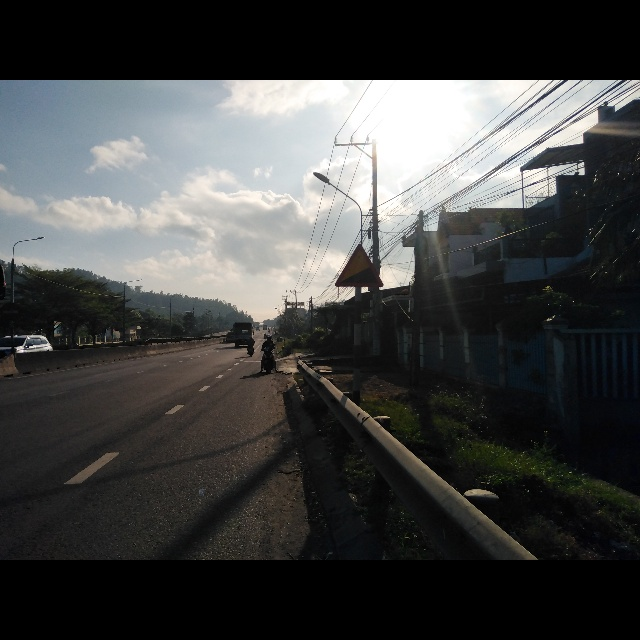Dốc lên nguy hiểm: (333, 244, 385, 290)
